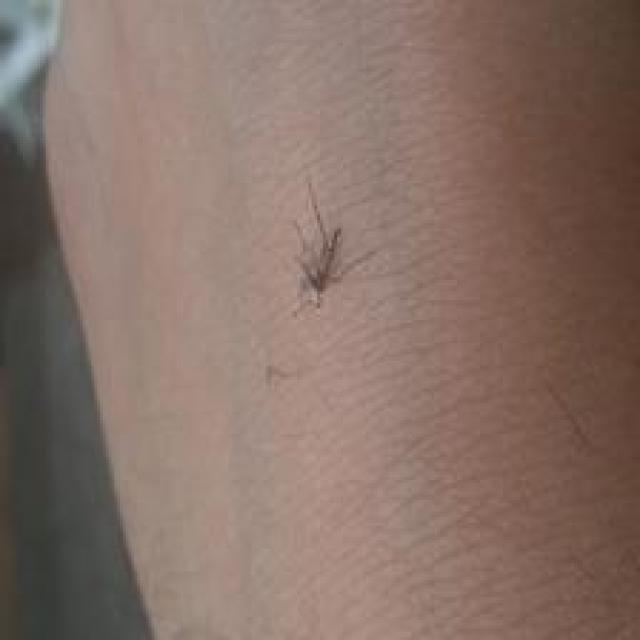Aedes albopictus: (287, 177, 376, 317)
